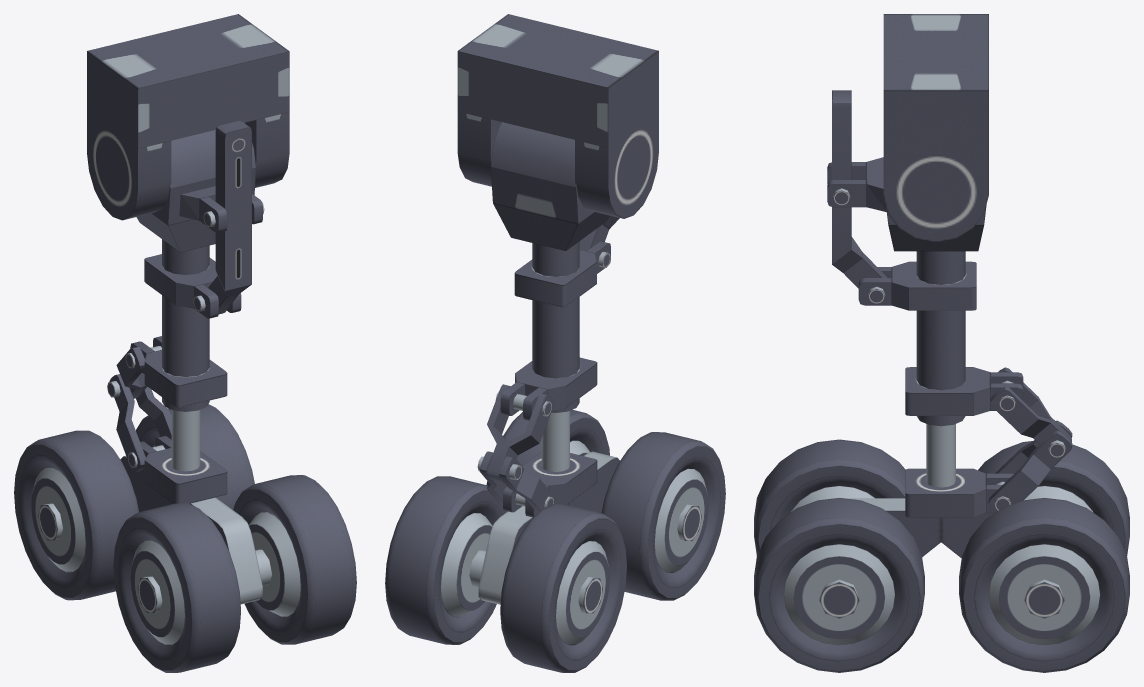
File: Gear_03.FBX
The picture shows the model from 3 angles, left to right: view 1: azimuth 30°, elevation 25°; view 2: azimuth 150°, elevation 25°; view 3: azimuth 270°, elevation 25°; orthographic projection. The views are drawn at different scales.
Visible parts, largest first — view 1: Gear_Pivot, Wheel_01, Gear_Base, Wheel_02; view 2: Gear_Pivot, Wheel_02, Gear_Base, Wheel_01; view 3: Gear_Pivot, Wheel_01, Wheel_02, Gear_Base.
Part boxes in pixels (x1,y1,x2,y2): Gear_Pivot: (38, 120, 271, 612); Wheel_01: (113, 475, 356, 672); Gear_Base: (87, 14, 289, 220); Wheel_02: (14, 404, 254, 600); Gear_Pivot: (469, 122, 701, 613); Wheel_02: (385, 476, 626, 672); Gear_Base: (457, 14, 658, 218); Wheel_01: (486, 409, 725, 600); Gear_Pivot: (819, 90, 1072, 618); Wheel_01: (754, 439, 924, 672); Wheel_02: (959, 441, 1129, 672); Gear_Base: (883, 14, 988, 241).
Bounding box in the file's own units: 1.07 × 3.27 × 1.91.
Materials: 4 (4 with a texture image).
